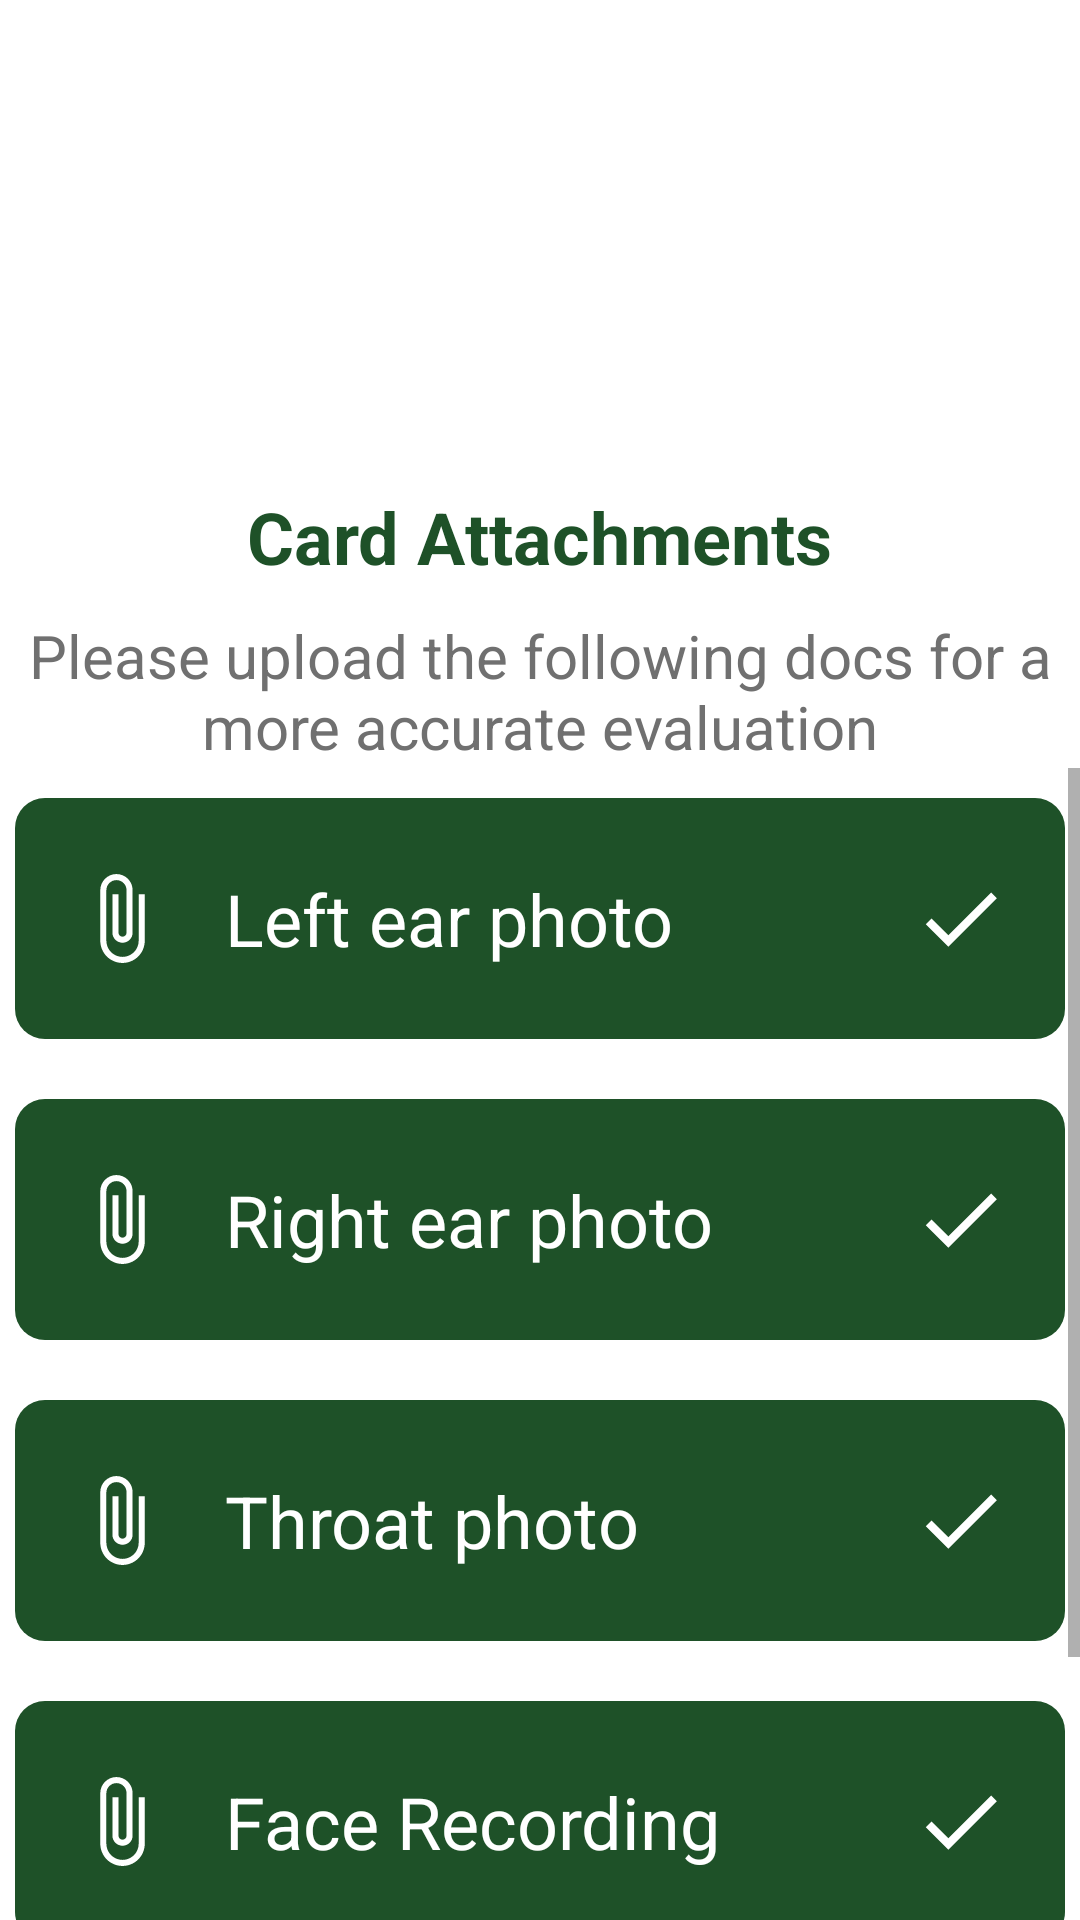

Where icons sit on this 1080x1920 app screen, as (x1, y1, x2, y2):
attach: (100, 874, 145, 963), (100, 1175, 145, 1264), (100, 1476, 145, 1565), (100, 1777, 145, 1866)
check: (926, 892, 997, 947), (926, 1193, 997, 1248), (926, 1494, 997, 1549), (926, 1795, 997, 1850)
